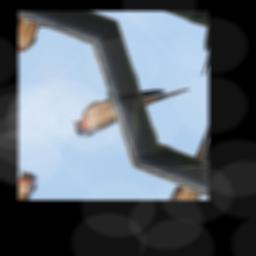Swallow: (67, 47, 190, 168)
